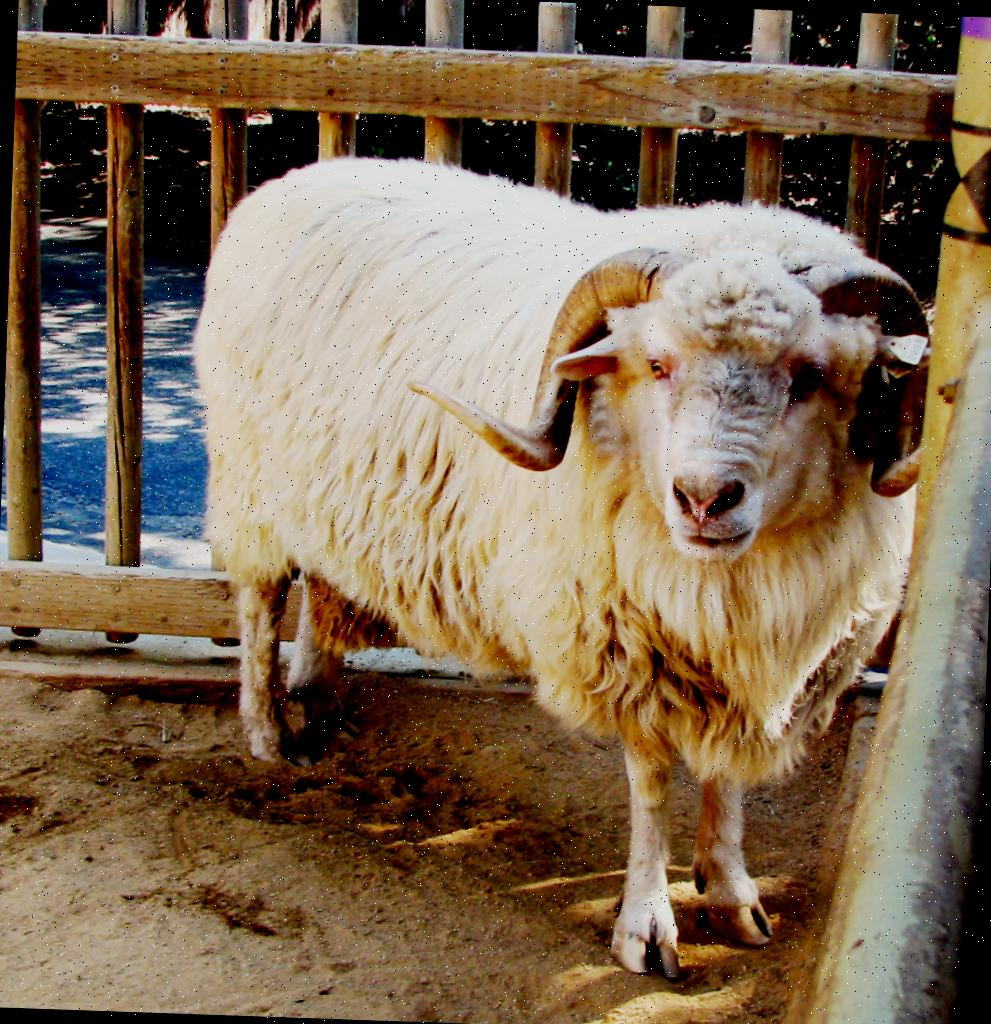Sheep: (171, 172, 928, 977)
